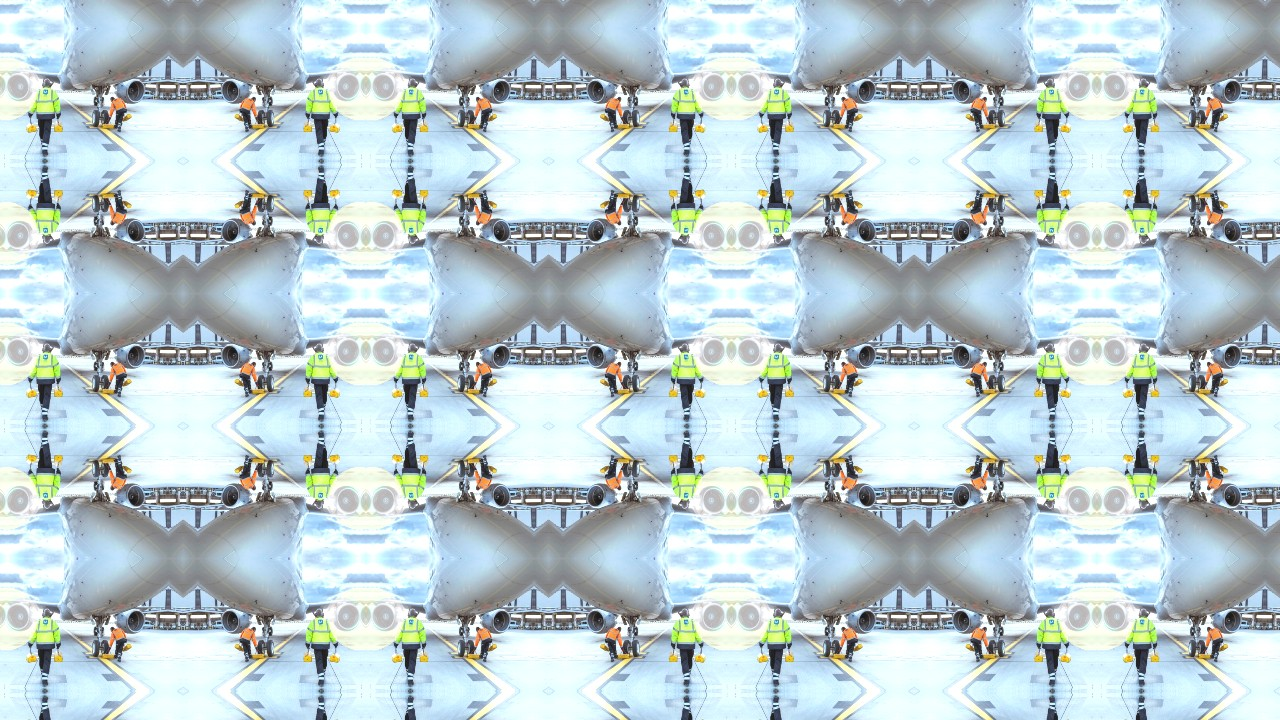chock: (24, 122, 37, 133), (328, 122, 341, 133), (390, 122, 403, 133), (694, 122, 707, 133), (756, 122, 769, 133), (1060, 122, 1073, 133), (1122, 122, 1135, 133), (24, 189, 37, 200), (328, 189, 341, 200), (390, 189, 403, 200), (694, 189, 707, 200), (756, 189, 769, 200), (1060, 189, 1073, 200), (1122, 189, 1135, 200), (24, 387, 37, 398), (328, 387, 341, 398), (390, 387, 403, 398), (694, 387, 707, 398), (756, 387, 769, 398), (1060, 387, 1073, 398), (1122, 387, 1135, 398), (24, 454, 37, 465), (328, 454, 341, 465), (390, 454, 403, 465), (694, 454, 707, 465), (756, 454, 769, 465), (1060, 454, 1073, 465), (1122, 454, 1135, 465), (24, 653, 37, 664), (328, 653, 341, 664), (390, 653, 403, 664), (694, 653, 707, 664), (756, 653, 769, 664), (1060, 653, 1073, 664), (1122, 653, 1135, 664), (53, 119, 63, 133), (302, 119, 312, 133), (419, 119, 429, 133), (668, 119, 678, 133), (785, 119, 795, 133), (1034, 119, 1044, 133), (1151, 119, 1161, 133), (53, 189, 63, 203), (302, 189, 312, 203), (419, 189, 429, 203), (668, 189, 678, 203), (785, 189, 795, 203), (1034, 189, 1044, 203), (1151, 189, 1161, 203), (53, 384, 63, 398), (302, 384, 312, 398), (419, 384, 429, 398), (668, 384, 678, 398), (785, 384, 795, 398), (1034, 384, 1044, 398), (1151, 384, 1161, 398), (53, 454, 63, 468), (302, 454, 312, 468), (419, 454, 429, 468), (668, 454, 678, 468), (785, 454, 795, 468), (1034, 454, 1044, 468), (1151, 454, 1161, 468), (53, 650, 63, 664), (302, 650, 312, 664), (419, 650, 429, 664), (668, 650, 678, 664), (785, 650, 795, 664), (1034, 650, 1044, 664), (1151, 650, 1161, 664), (121, 113, 131, 122), (234, 113, 244, 122), (487, 113, 497, 122), (600, 113, 610, 122), (853, 113, 863, 122), (966, 113, 976, 122), (1219, 113, 1229, 122), (121, 200, 131, 209), (234, 200, 244, 209), (487, 200, 497, 209), (600, 200, 610, 209), (853, 200, 863, 209), (966, 200, 976, 209), (1219, 200, 1229, 209), (121, 378, 131, 387), (234, 378, 244, 387), (487, 378, 497, 387), (600, 378, 610, 387), (853, 378, 863, 387), (966, 378, 976, 387), (1219, 378, 1229, 387), (121, 465, 131, 474), (234, 465, 244, 474), (487, 465, 497, 474), (600, 465, 610, 474), (853, 465, 863, 474), (966, 465, 976, 474), (1219, 465, 1229, 474), (121, 644, 131, 653), (234, 644, 244, 653), (487, 644, 497, 653), (600, 644, 610, 653), (853, 644, 863, 653), (966, 644, 976, 653), (1219, 644, 1229, 653), (102, 123, 114, 129), (251, 123, 263, 129), (468, 123, 480, 129), (617, 123, 629, 129), (834, 123, 846, 129), (983, 123, 995, 129), (1200, 123, 1212, 129), (102, 192, 114, 198), (251, 192, 263, 198), (468, 192, 480, 198), (617, 192, 629, 198), (834, 192, 846, 198), (983, 192, 995, 198), (1200, 192, 1212, 198), (102, 389, 114, 395), (251, 389, 263, 395), (468, 389, 480, 395), (617, 389, 629, 395), (834, 389, 846, 395), (983, 389, 995, 395), (1200, 389, 1212, 395), (102, 458, 114, 464), (251, 458, 263, 464), (468, 458, 480, 464), (617, 458, 629, 464), (834, 458, 846, 464), (983, 458, 995, 464), (1200, 458, 1212, 464), (102, 654, 114, 660), (251, 654, 263, 660), (468, 654, 480, 660), (617, 654, 629, 660), (834, 654, 846, 660), (983, 654, 995, 660), (1200, 654, 1212, 660)
wheel: (91, 109, 99, 127), (266, 109, 274, 127), (457, 109, 465, 127), (632, 109, 640, 127), (823, 109, 831, 127), (998, 109, 1006, 127), (1189, 109, 1197, 127), (91, 195, 99, 213), (266, 195, 274, 213), (457, 195, 465, 213), (632, 195, 640, 213), (823, 195, 831, 213), (998, 195, 1006, 213), (1189, 195, 1197, 213), (91, 374, 99, 392), (266, 374, 274, 392), (457, 374, 465, 392), (632, 374, 640, 392), (823, 374, 831, 392), (998, 374, 1006, 392), (1189, 374, 1197, 392), (91, 460, 99, 478), (266, 460, 274, 478), (457, 460, 465, 478), (632, 460, 640, 478), (823, 460, 831, 478), (998, 460, 1006, 478), (1189, 460, 1197, 478), (91, 640, 99, 658), (266, 640, 274, 658), (457, 640, 465, 658), (632, 640, 640, 658), (823, 640, 831, 658), (998, 640, 1006, 658), (1189, 640, 1197, 658), (100, 196, 108, 213), (257, 196, 265, 213), (466, 196, 474, 213), (623, 196, 631, 213), (832, 196, 840, 213), (989, 196, 997, 213), (1198, 196, 1206, 213), (100, 374, 108, 391), (257, 374, 265, 391), (466, 374, 474, 391), (623, 374, 631, 391), (832, 374, 840, 391), (989, 374, 997, 391), (1198, 374, 1206, 391), (100, 109, 108, 125), (257, 109, 265, 125), (466, 109, 474, 125), (623, 109, 631, 125), (832, 109, 840, 125), (989, 109, 997, 125), (1198, 109, 1206, 125), (100, 462, 108, 478), (257, 462, 265, 478), (466, 462, 474, 478), (623, 462, 631, 478), (832, 462, 840, 478), (989, 462, 997, 478), (1198, 462, 1206, 478), (100, 640, 108, 656), (257, 640, 265, 656), (466, 640, 474, 656), (623, 640, 631, 656), (832, 640, 840, 656), (989, 640, 997, 656), (1198, 640, 1206, 656), (93, 216, 97, 226), (268, 216, 272, 226), (459, 216, 463, 226), (634, 216, 638, 226), (825, 216, 829, 226), (1000, 216, 1004, 226), (1191, 216, 1195, 226), (93, 361, 97, 371), (268, 361, 272, 371), (459, 361, 463, 371), (634, 361, 638, 371), (825, 361, 829, 371), (1000, 361, 1004, 371), (1191, 361, 1195, 371), (93, 96, 97, 105), (268, 96, 272, 105), (459, 96, 463, 105), (634, 96, 638, 105), (825, 96, 829, 105), (1000, 96, 1004, 105), (1191, 96, 1195, 105), (93, 482, 97, 491), (268, 482, 272, 491), (459, 482, 463, 491), (634, 482, 638, 491), (825, 482, 829, 491), (1000, 482, 1004, 491), (1191, 482, 1195, 491), (93, 627, 97, 636), (268, 627, 272, 636), (459, 627, 463, 636), (634, 627, 638, 636), (825, 627, 829, 636), (1000, 627, 1004, 636), (1191, 627, 1195, 636), (101, 96, 104, 101), (261, 96, 264, 101), (467, 96, 470, 101), (627, 96, 630, 101), (833, 96, 836, 101), (993, 96, 996, 101), (1199, 96, 1202, 101), (101, 220, 104, 225), (261, 220, 264, 225), (467, 220, 470, 225), (627, 220, 630, 225), (833, 220, 836, 225), (993, 220, 996, 225), (1199, 220, 1202, 225), (101, 362, 104, 367), (261, 362, 264, 367), (467, 362, 470, 367), (627, 362, 630, 367), (833, 362, 836, 367), (993, 362, 996, 367), (1199, 362, 1202, 367), (101, 486, 104, 491), (261, 486, 264, 491), (467, 486, 470, 491), (627, 486, 630, 491), (833, 486, 836, 491), (993, 486, 996, 491), (1199, 486, 1202, 491), (101, 627, 104, 632), (261, 627, 264, 632), (467, 627, 470, 632), (627, 627, 630, 632), (833, 627, 836, 632), (993, 627, 996, 632), (1199, 627, 1202, 632)
